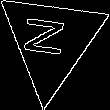N_E: (25, 18, 77, 65)
